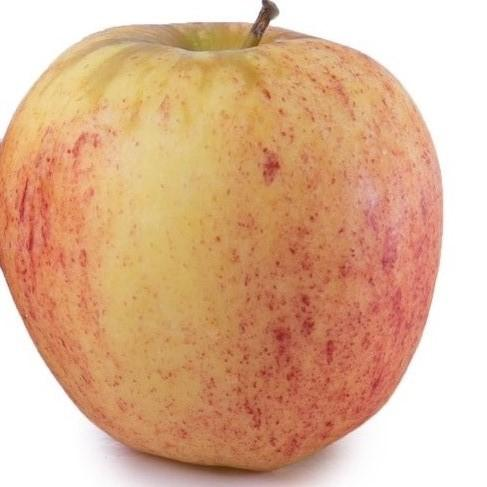fruit: (1, 21, 449, 471)
